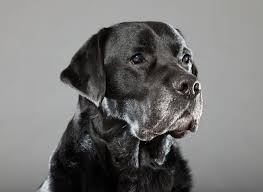dog: (27, 10, 227, 192)
